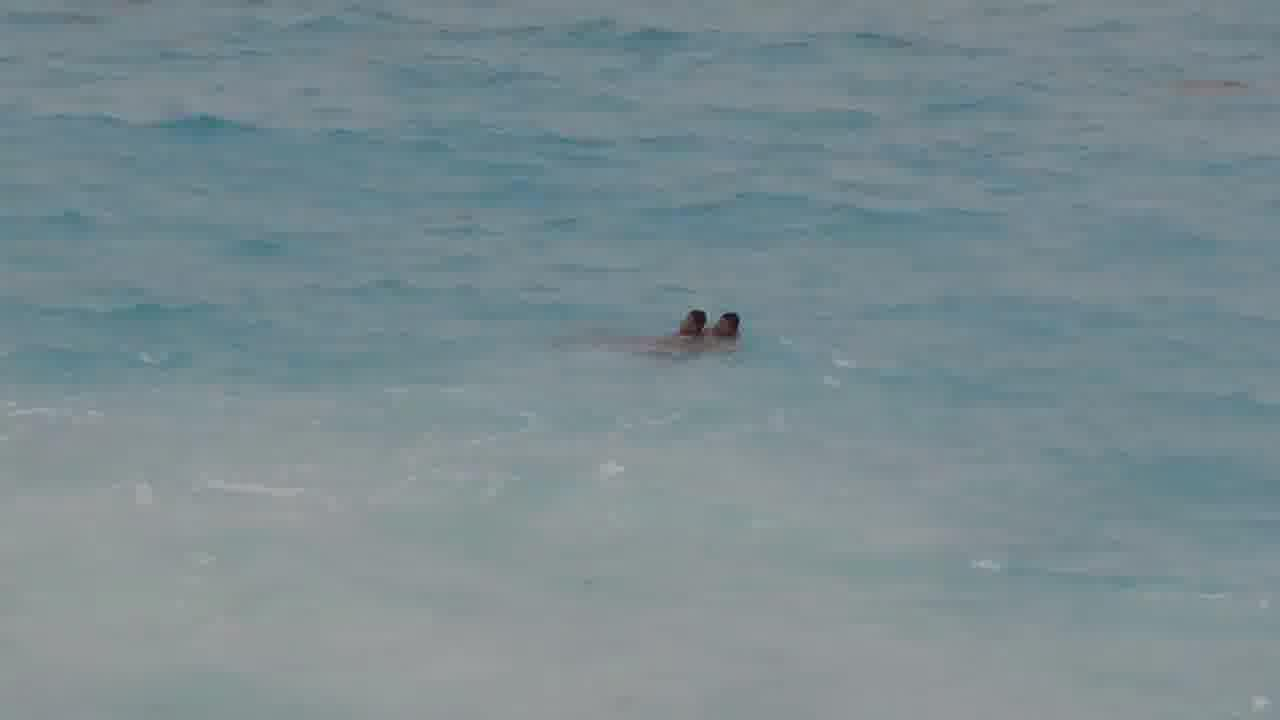swimmer: (714, 302, 749, 344), (673, 303, 706, 338)
